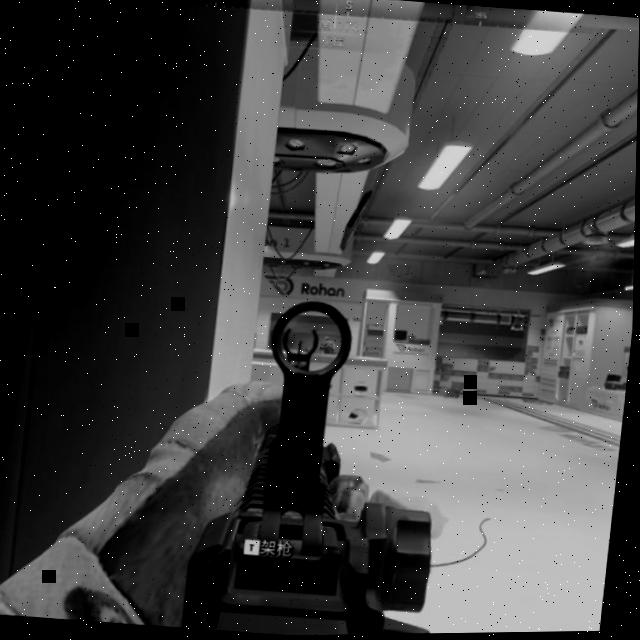MW2_body: (320, 336, 338, 357)
